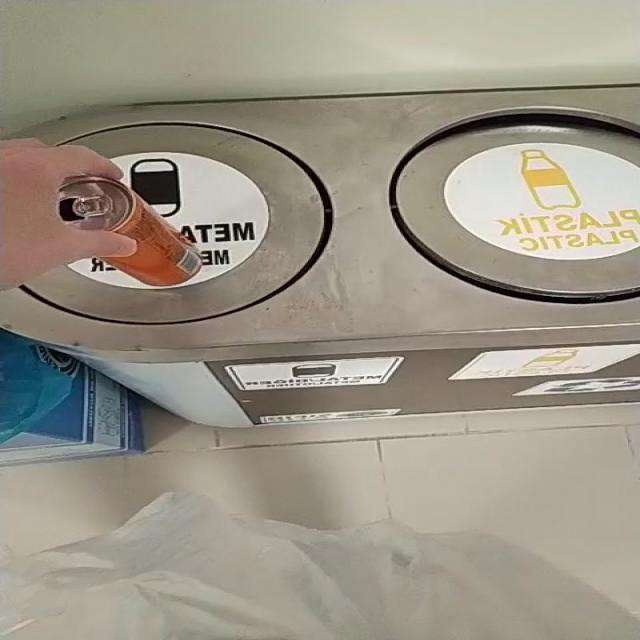Bin: (1, 88, 640, 428)
Metal: (57, 176, 201, 286)
